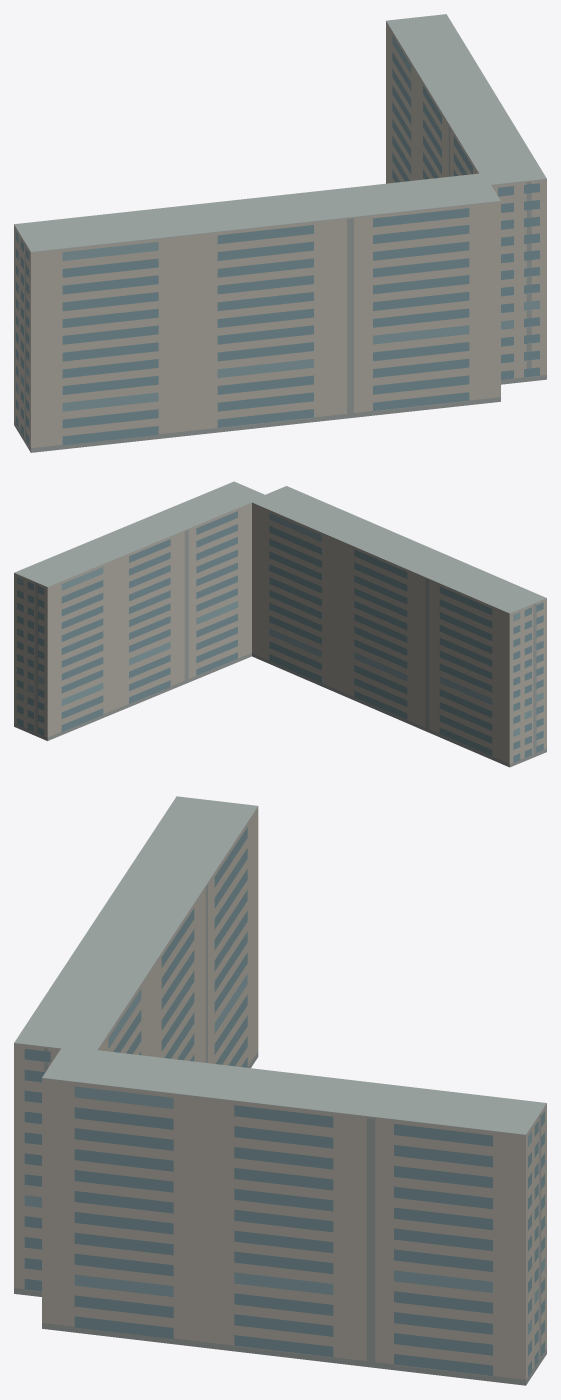
The model's file is residential-00b9bfc0-7091-4a32-83e1-c44e016ab3a8.glb.
The picture shows the model from 3 angles, top to bottom: view 1: azimuth 30°, elevation 25°; view 2: azimuth 150°, elevation 25°; view 3: azimuth 270°, elevation 25°; orthographic projection. The views are drawn at different scales.
Parts seen in each view (by area): view 1: residential-00b9bfc0-7091-4a32-83e1-c44e016ab3a8.tmp; view 2: residential-00b9bfc0-7091-4a32-83e1-c44e016ab3a8.tmp; view 3: residential-00b9bfc0-7091-4a32-83e1-c44e016ab3a8.tmp.
Boxes of the visible parts, box(x1,y1,x2,y2) form: residential-00b9bfc0-7091-4a32-83e1-c44e016ab3a8.tmp: box(14, 14, 546, 452); residential-00b9bfc0-7091-4a32-83e1-c44e016ab3a8.tmp: box(14, 481, 546, 767); residential-00b9bfc0-7091-4a32-83e1-c44e016ab3a8.tmp: box(14, 796, 546, 1385).
Bounding box in the file's own units: 106 × 36.6 × 70.47.
